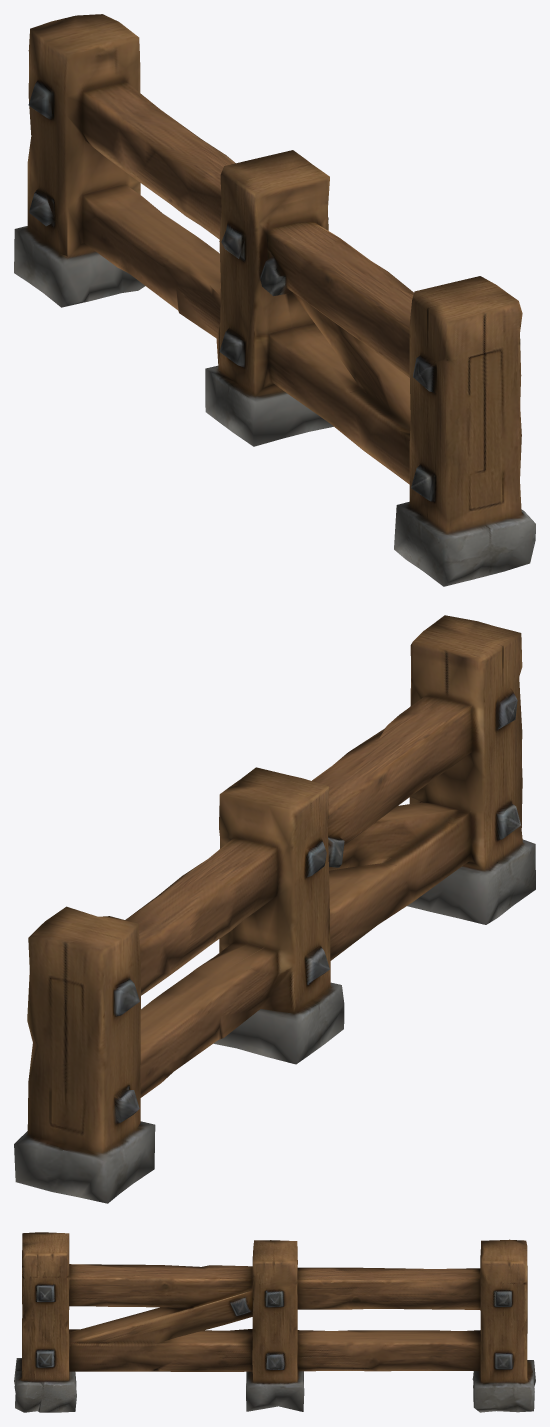
File: textures.glb
3 renders of one model, top to bottom at view 1: azimuth 30°, elevation 25°; view 2: azimuth 150°, elevation 25°; view 3: azimuth 270°, elevation 25°, orthographic. The views are drawn at different scales.
Parts seen in each view (by area): view 1: tripo_node_75c97185-8972-448b-a335-f8a13d6ccdb7; view 2: tripo_node_75c97185-8972-448b-a335-f8a13d6ccdb7; view 3: tripo_node_75c97185-8972-448b-a335-f8a13d6ccdb7.
Boxes of the visible parts, x1,y1,x2,y2 form: tripo_node_75c97185-8972-448b-a335-f8a13d6ccdb7: (14,14,535,586); tripo_node_75c97185-8972-448b-a335-f8a13d6ccdb7: (14,615,535,1203); tripo_node_75c97185-8972-448b-a335-f8a13d6ccdb7: (14,1232,535,1412).
Bounding box in the file's own units: 0.1468 × 0.3312 × 1.
1 material, 1 textured.
